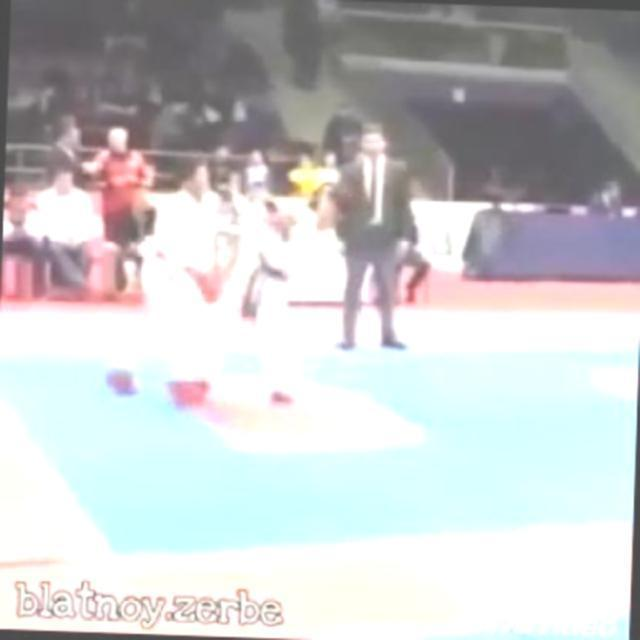fight: (130, 156, 358, 413)
